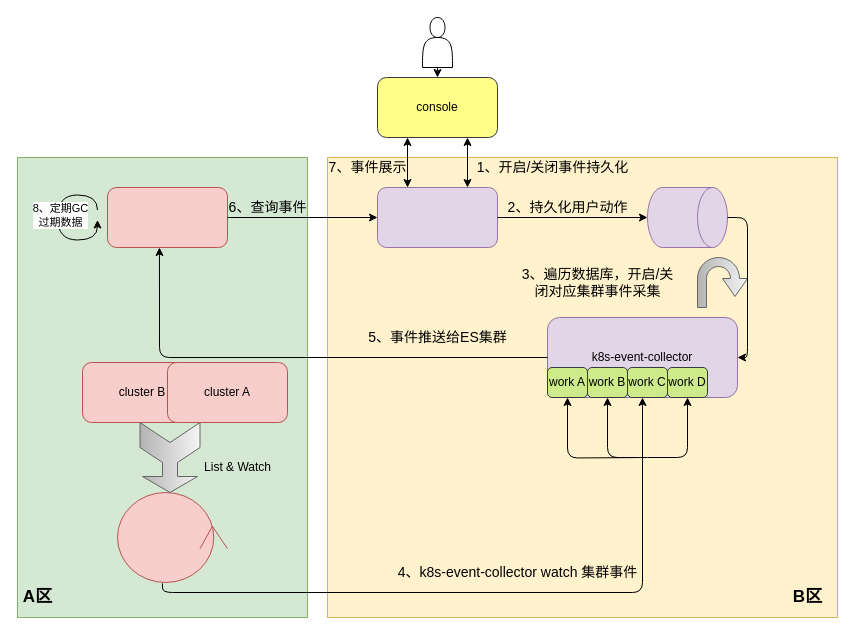
The diagram is 855 pixels wide and 635 high, and some of its shapes have lost their labels. Each missing label, with the box of its shape:
cce-monitor-service: (376, 186, 498, 248)
DB: (646, 186, 728, 248)
ES集群: (106, 186, 228, 248)
Informer onAdd onUpdate: (116, 492, 228, 582)
